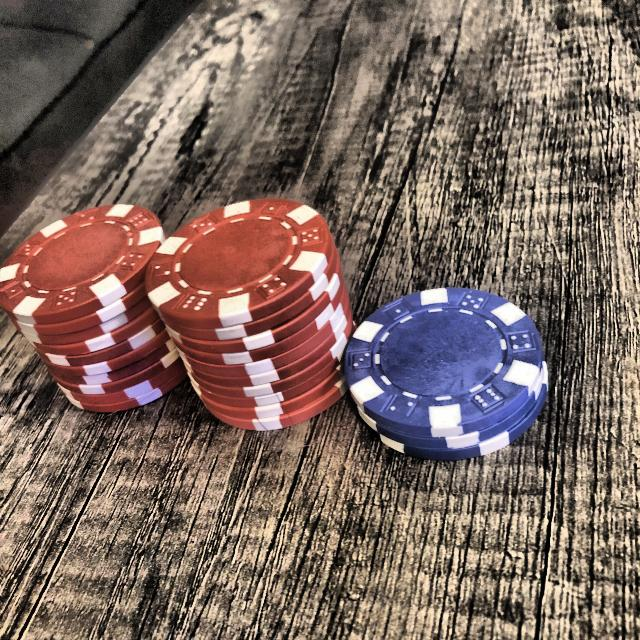Chip: (142, 192, 356, 432), (0, 199, 186, 418), (341, 284, 553, 462)
